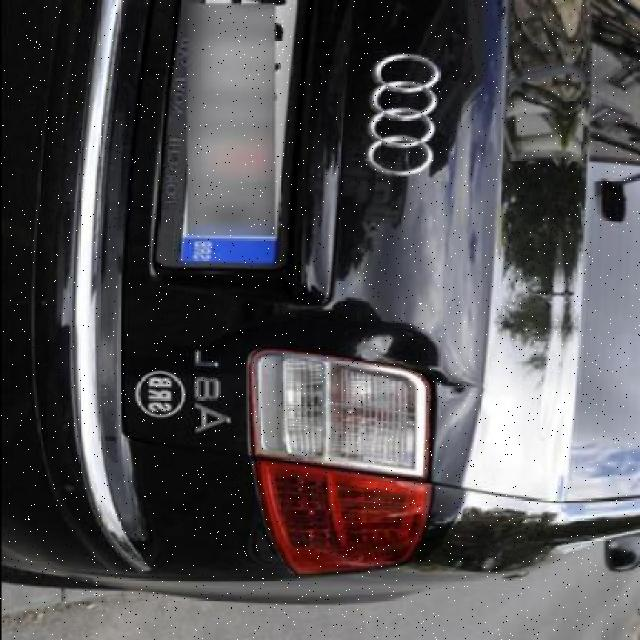damage: (350, 321, 485, 396)
